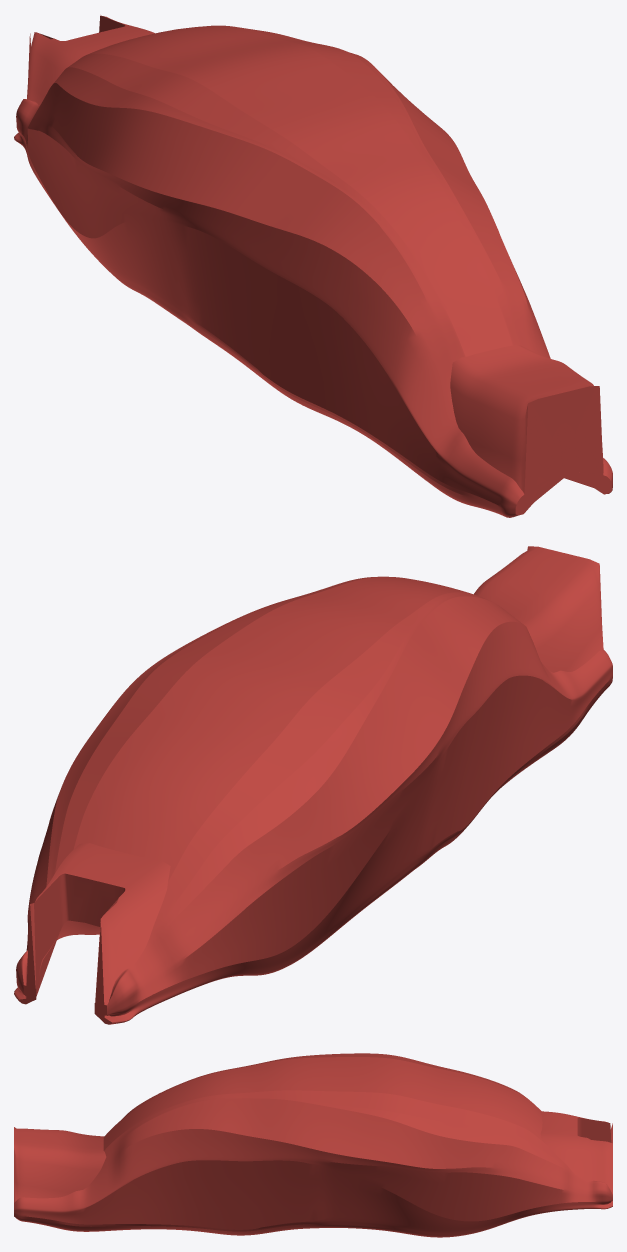
File: sports_tourer_5.glb
3 views of the same model, one above another, from view 1: azimuth 30°, elevation 25°; view 2: azimuth 150°, elevation 25°; view 3: azimuth 270°, elevation 25° (orthographic). The views are drawn at different scales.
Visible parts, largest first — view 1: lod0; view 2: lod0; view 3: lod0.
Part boxes in pixels (left/top/right/bottom): lod0: left=14, top=15, right=612, bottom=517; lod0: left=14, top=546, right=612, bottom=1024; lod0: left=14, top=1053, right=612, bottom=1237.
Size of what is drawn, in the model's own units: 0.4299 by 0.3357 by 1.29.
